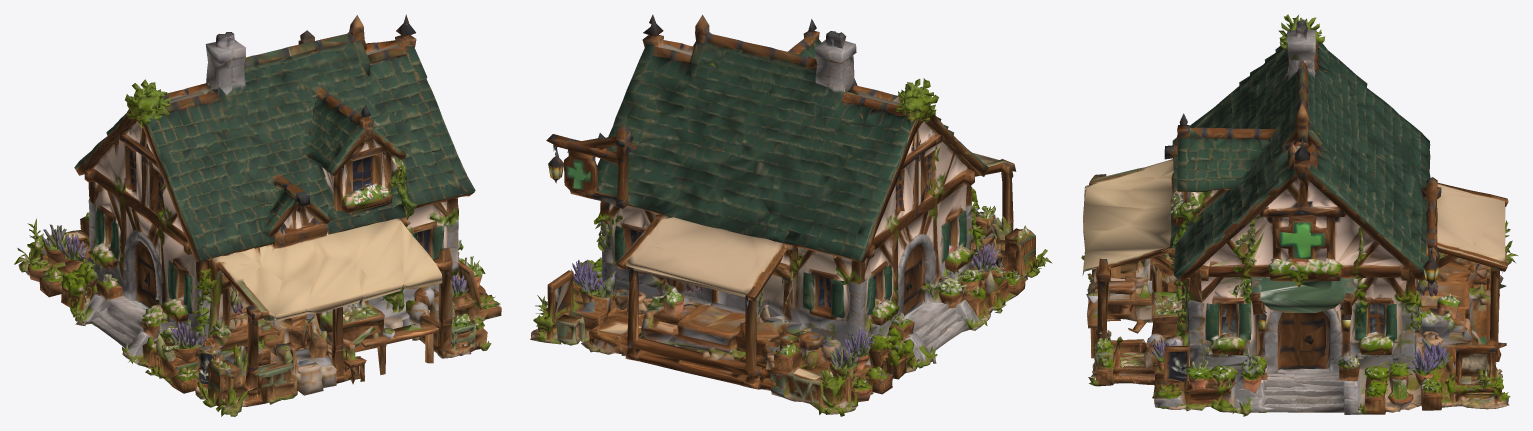
File: healer_lod0.glb
3 views of the same model, side by side, from view 1: azimuth 30°, elevation 25°; view 2: azimuth 150°, elevation 25°; view 3: azimuth 270°, elevation 25° (orthographic).
Parts seen in each view (by area): view 1: Mesh_0; view 2: Mesh_0; view 3: Mesh_0.
Boxes of the visible parts, left/top/right/bottom form: Mesh_0: left=14, top=14, right=501, bottom=416; Mesh_0: left=530, top=14, right=1052, bottom=416; Mesh_0: left=1081, top=14, right=1517, bottom=416.
Size of the model in its own units: 1.76 by 1.36 by 1.89.
1 material, 1 textured.
